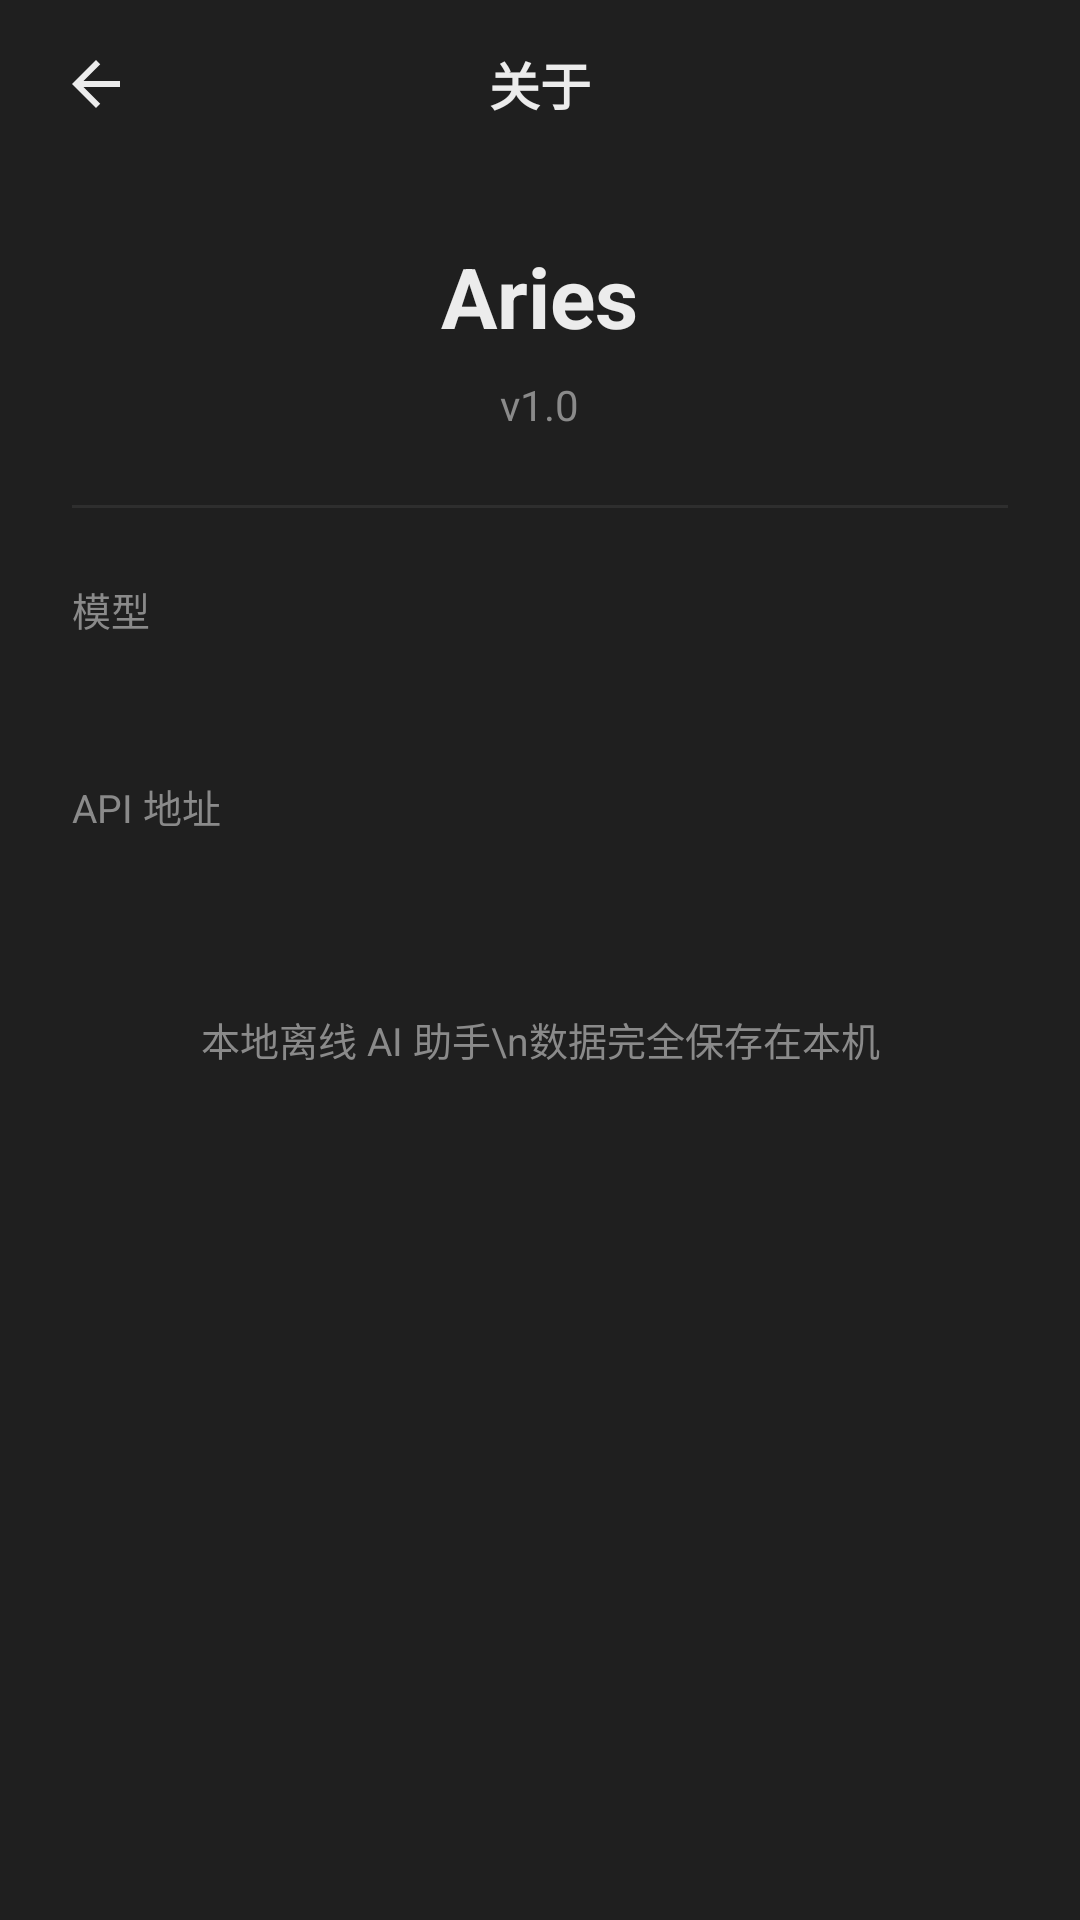

Named icons in this screenshot (1080×1920) and their centers, [x,y]:
back: [96,84]
